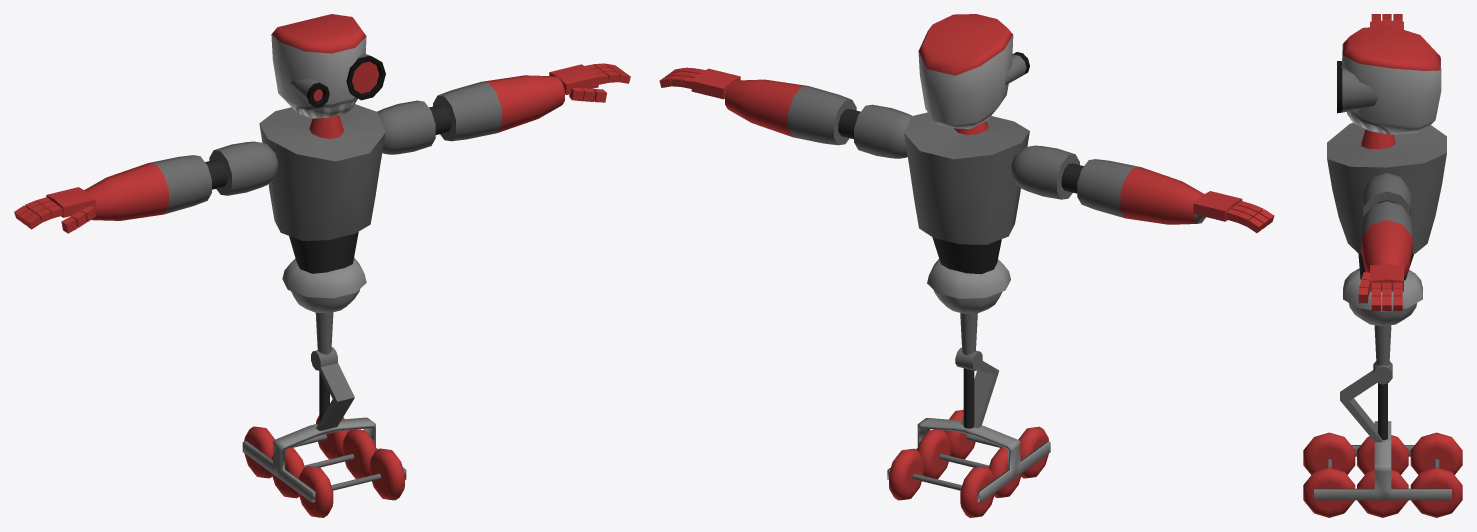
File: Red_Robot.fbx
The picture shows the model from 3 angles, left to right: view 1: azimuth 30°, elevation 25°; view 2: azimuth 150°, elevation 25°; view 3: azimuth 270°, elevation 25°; orthographic projection.
Parts seen in each view (by area): view 1: Robot; view 2: Robot; view 3: Robot.
Boxes of the visible parts, left/top/right/bottom form: Robot: left=14, top=14, right=630, bottom=517; Robot: left=659, top=14, right=1274, bottom=517; Robot: left=1303, top=14, right=1462, bottom=517.
Bounding box in the file's own units: 215 × 158 × 49.59.
